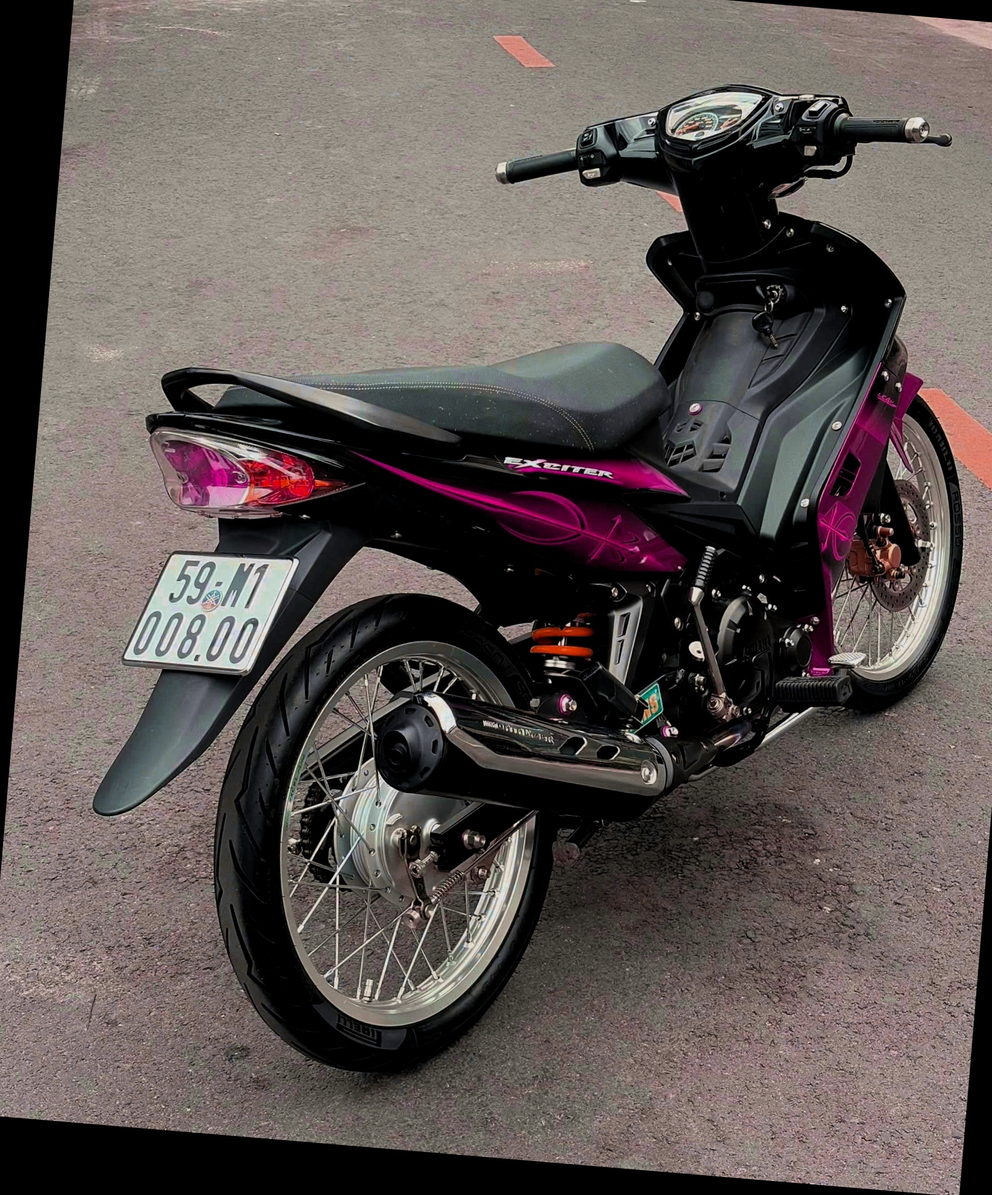Bien-so: (117, 549, 303, 685)
